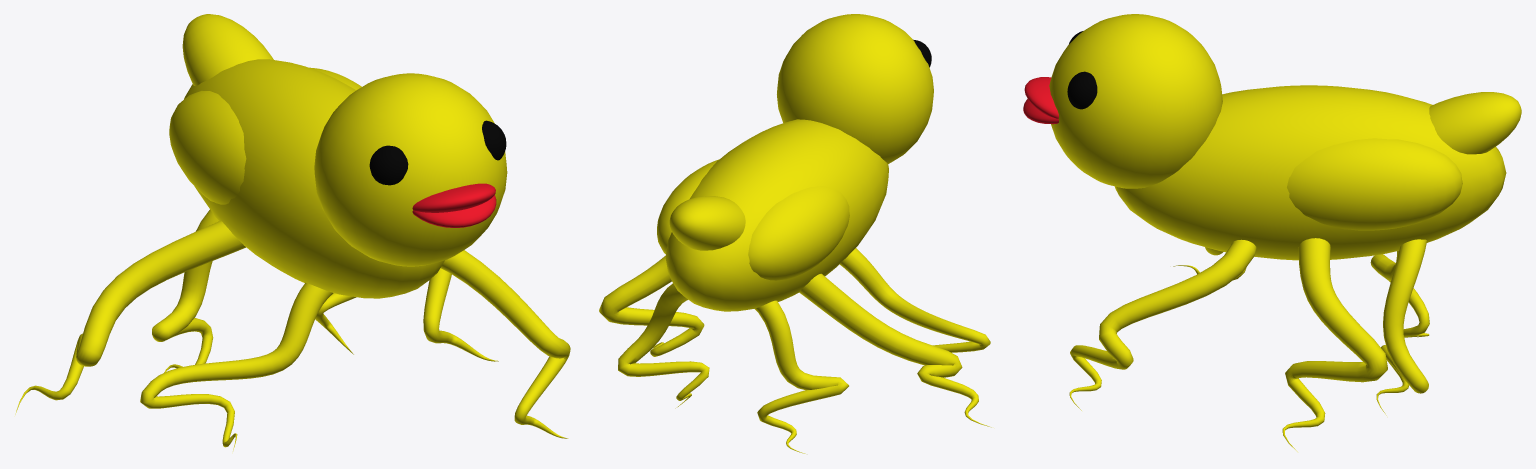
The model's file is duck.glb.
3 views of the same model, side by side, from view 1: azimuth 30°, elevation 25°; view 2: azimuth 150°, elevation 25°; view 3: azimuth 270°, elevation 25° (orthographic). The views are drawn at different scales.
Parts seen in each view (by area): view 1: duck; view 2: duck; view 3: duck.
Part boxes in pixels (x1,y1,x2,y2): duck: [15, 14, 570, 450]; duck: [599, 14, 991, 453]; duck: [1023, 14, 1521, 451].
Size of the model in its own units: 5.54 by 4.52 by 5.69.
